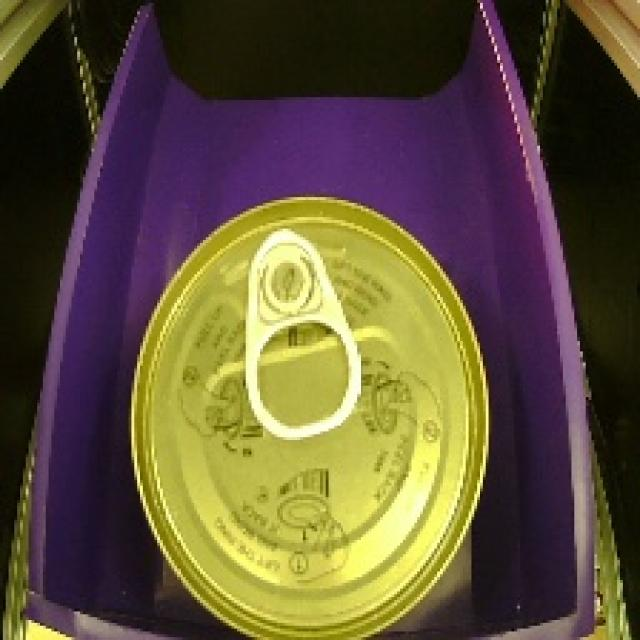metal: (114, 177, 503, 640)
